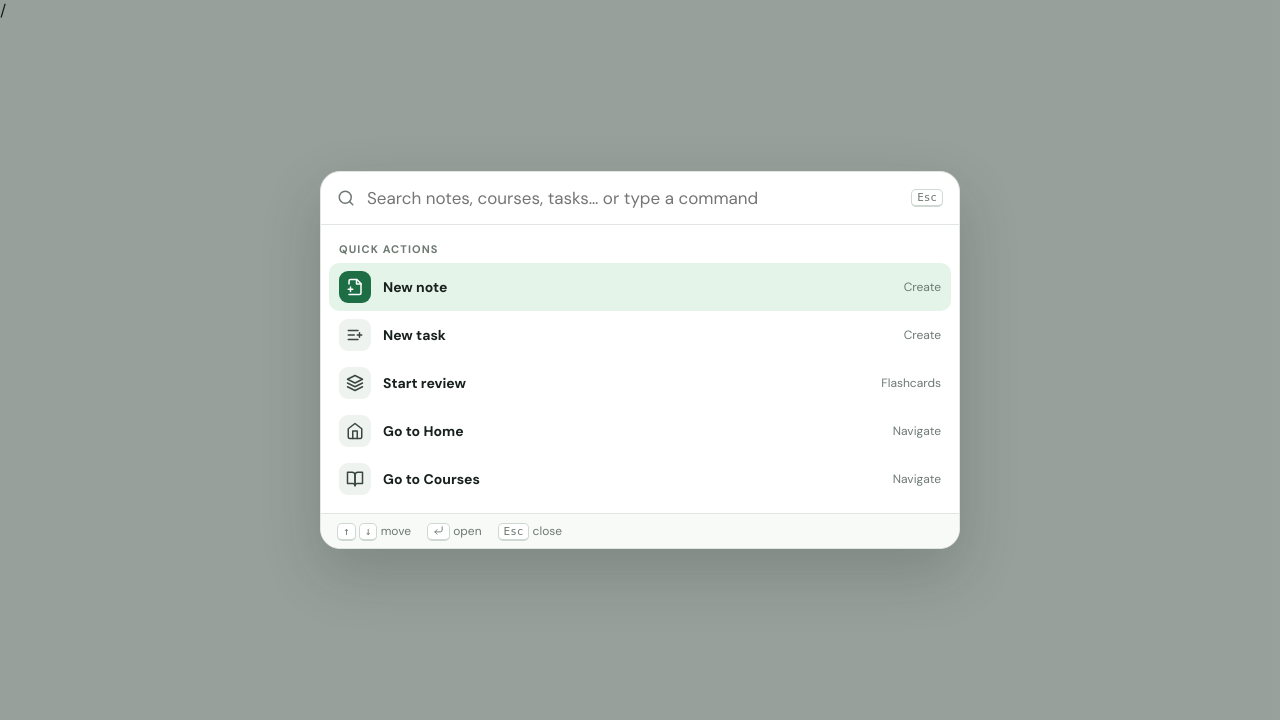
CommandPalette › searches as you type and opens a result, remembering the query
Type "joins" into the dropdown at (633, 198), box top-left (365, 186), bottom-right (901, 210)
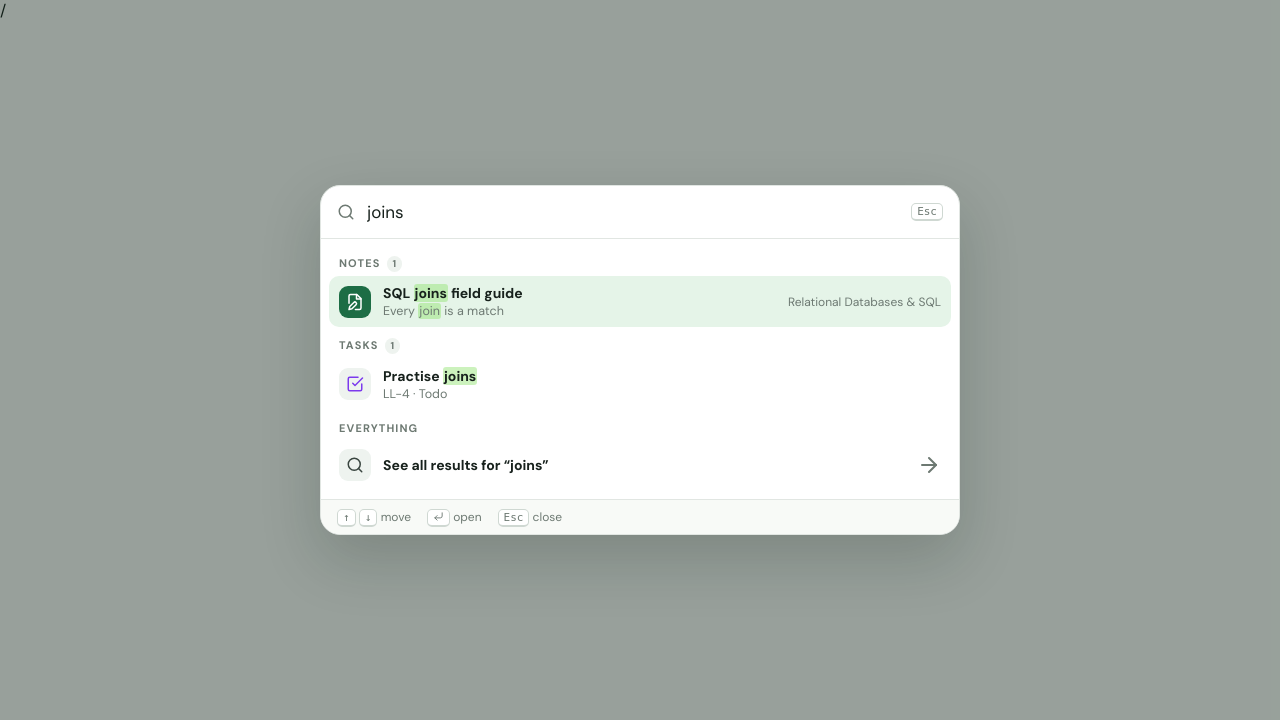
Expected: the text "Notes" is shown, top-left (339, 256), bottom-right (380, 270)
Expected: the text "joins" next to "field guide" is shown, top-left (414, 284), bottom-right (447, 302)
Press Enter
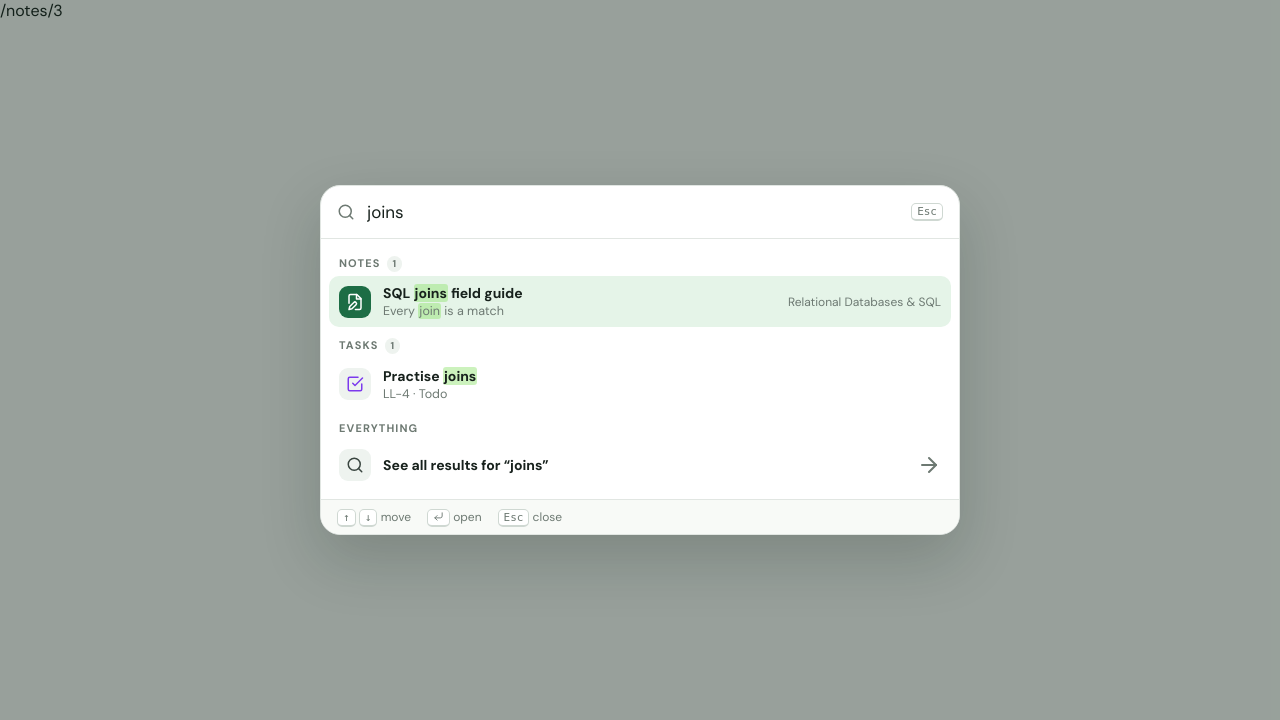
Expected: the text with test id "location" reads "/notes/3", top-left (0, 0), bottom-right (63, 21)
